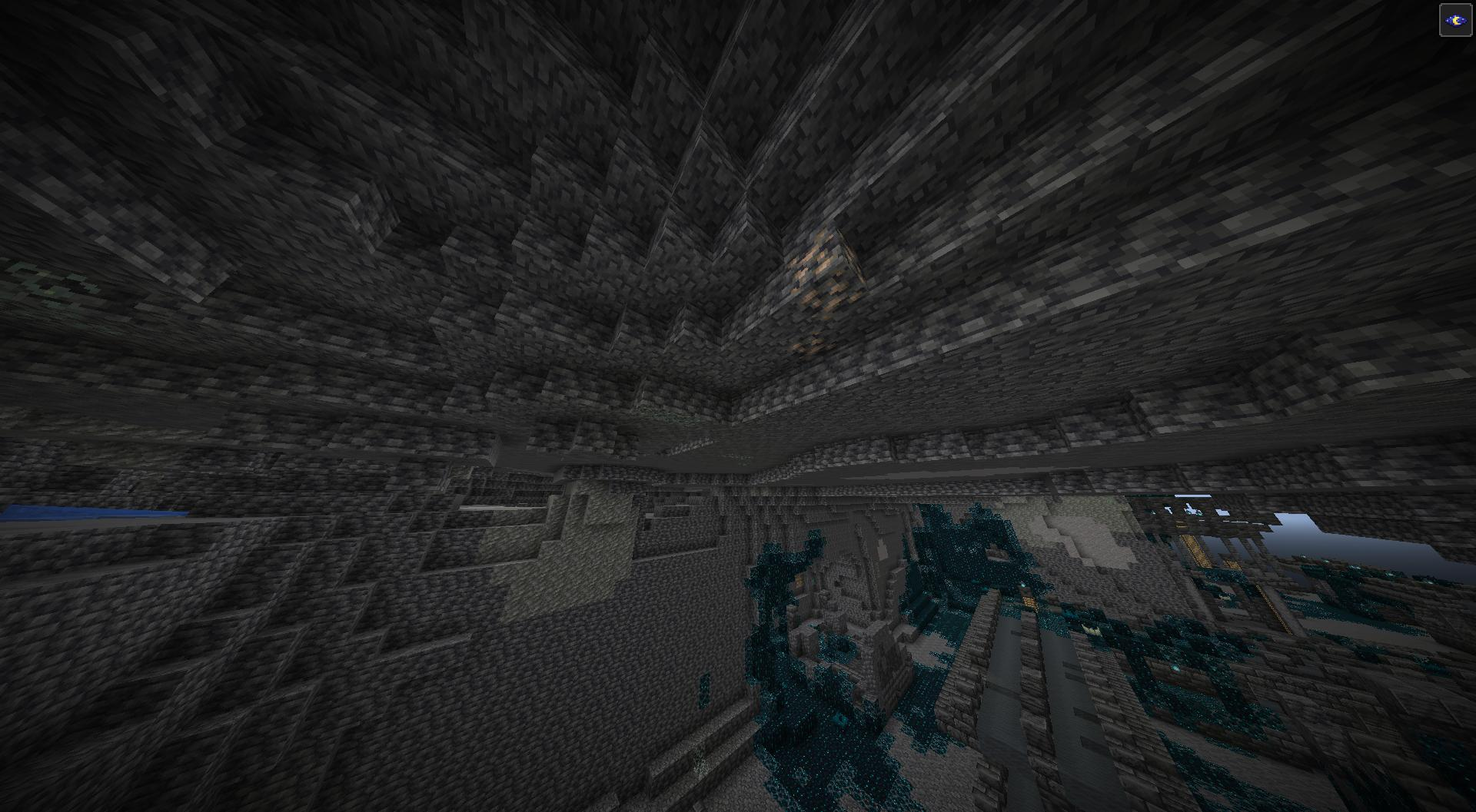iron ore: (789, 236, 868, 315), (790, 331, 836, 362)
